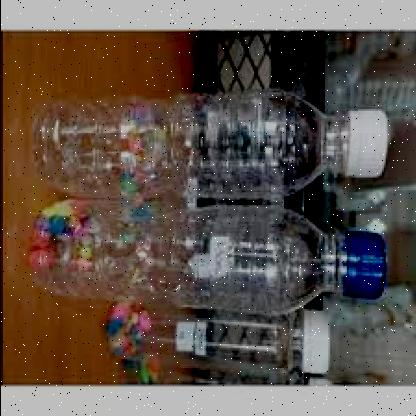Plastic Bottle: (28, 200, 386, 316), (32, 87, 388, 201), (106, 306, 330, 382)
